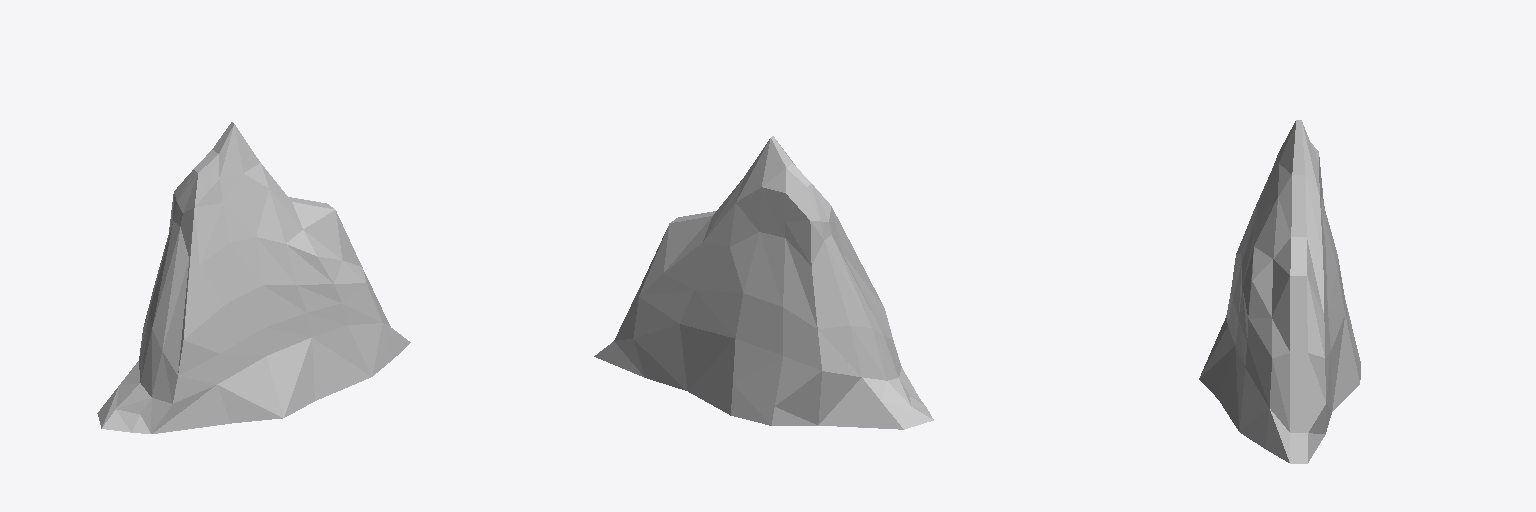
The model's file is mountain.obj.
The picture shows the model from 3 angles: view 1: azimuth 30°, elevation 25°; view 2: azimuth 150°, elevation 25°; view 3: azimuth 270°, elevation 25°; orthographic projection.
Parts seen in each view (by area): view 1: Mountain_Cube; view 2: Mountain_Cube; view 3: Mountain_Cube.
Part boxes in pixels (x1,y1,x2,y2): Mountain_Cube: (97, 122, 410, 433); Mountain_Cube: (594, 136, 933, 429); Mountain_Cube: (1199, 120, 1360, 463).
Bounding box in the file's own units: 10.86 × 8.39 × 4.76.